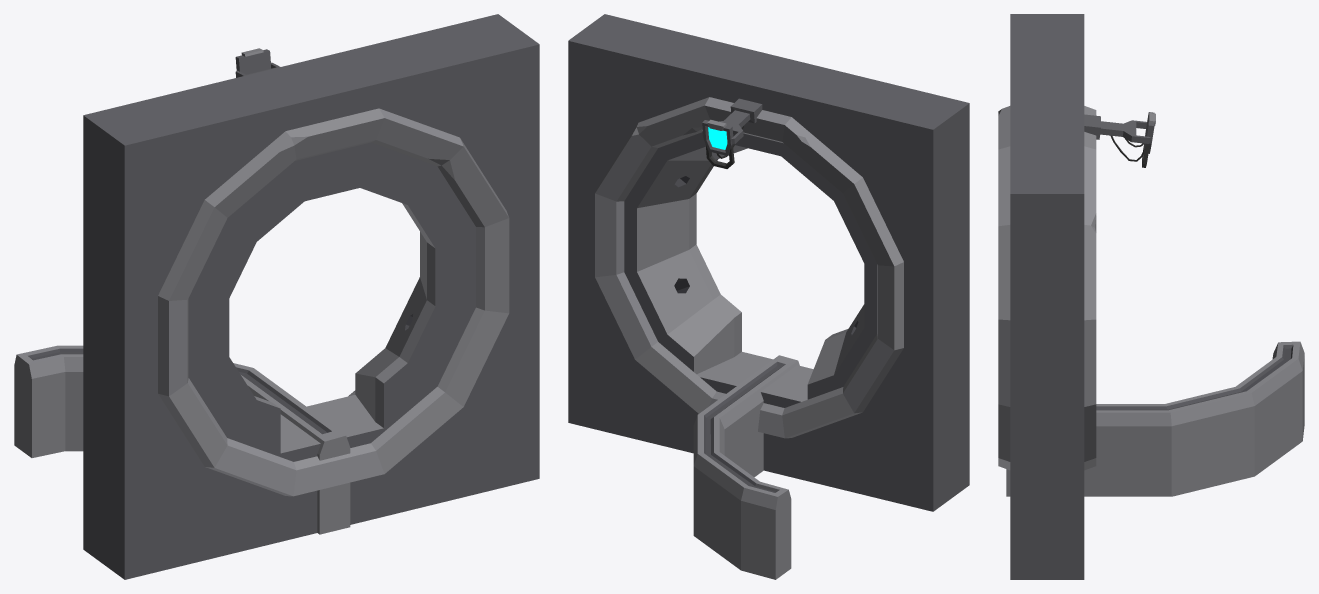
Rendered from SM_Bld_Wall_Doorframe_04.fbx.
The picture shows the model from 3 angles, left to right: view 1: azimuth 30°, elevation 25°; view 2: azimuth 150°, elevation 25°; view 3: azimuth 270°, elevation 25°; orthographic projection. The views are drawn at different scales.
Visible parts, largest first — view 1: SM_Bld_Wall_Doorframe_04_LOD0; view 2: SM_Bld_Wall_Doorframe_04_LOD0; view 3: SM_Bld_Wall_Doorframe_04_LOD0.
Boxes of the visible parts, x1,y1,x2,y2 form: SM_Bld_Wall_Doorframe_04_LOD0: [14, 14, 539, 579]; SM_Bld_Wall_Doorframe_04_LOD0: [568, 14, 969, 579]; SM_Bld_Wall_Doorframe_04_LOD0: [998, 14, 1304, 579].
Bounding box in the file's own units: 360 × 500 × 500.
Materials: 1 (1 with a texture image).
